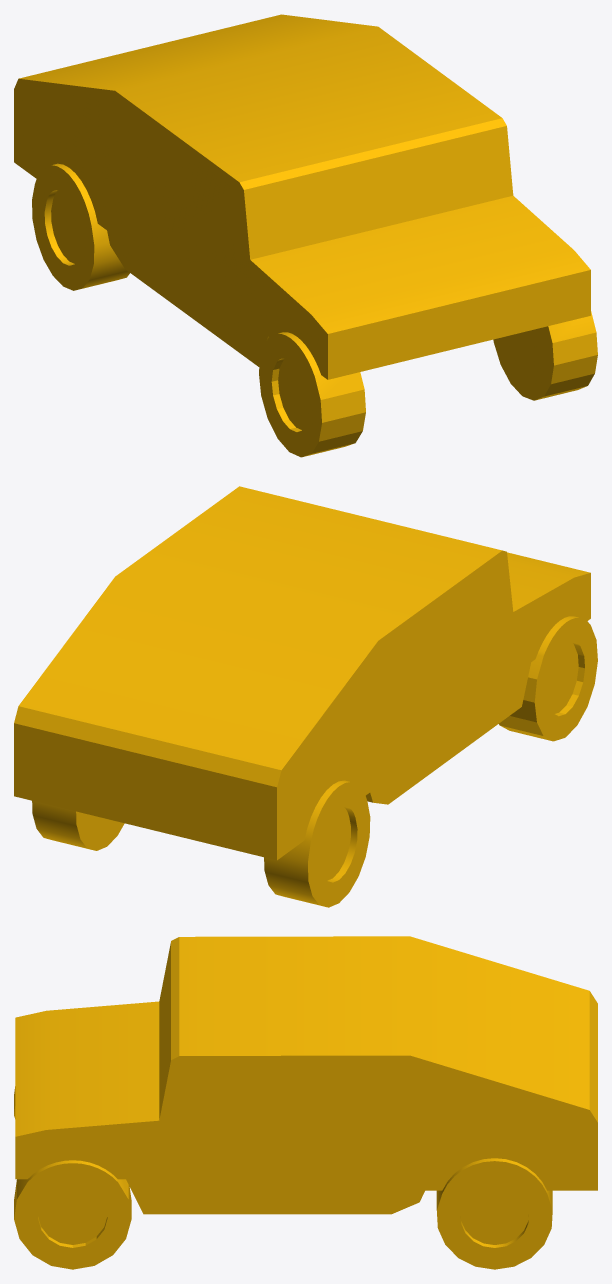
File: Boardgame_Troop_Single_Token_Yellow_01.fbx
3 renders of one model, top to bottom at view 1: azimuth 30°, elevation 25°; view 2: azimuth 150°, elevation 25°; view 3: azimuth 270°, elevation 25°, orthographic. The views are drawn at different scales.
Parts seen in each view (by area): view 1: Model; view 2: Model; view 3: Model.
Part boxes in pixels (<box>): Model: <box>14,14,597,457</box>; Model: <box>14,486,597,907</box>; Model: <box>14,936,597,1269</box>.
Bounding box in the file's own units: 136 × 107 × 269.
